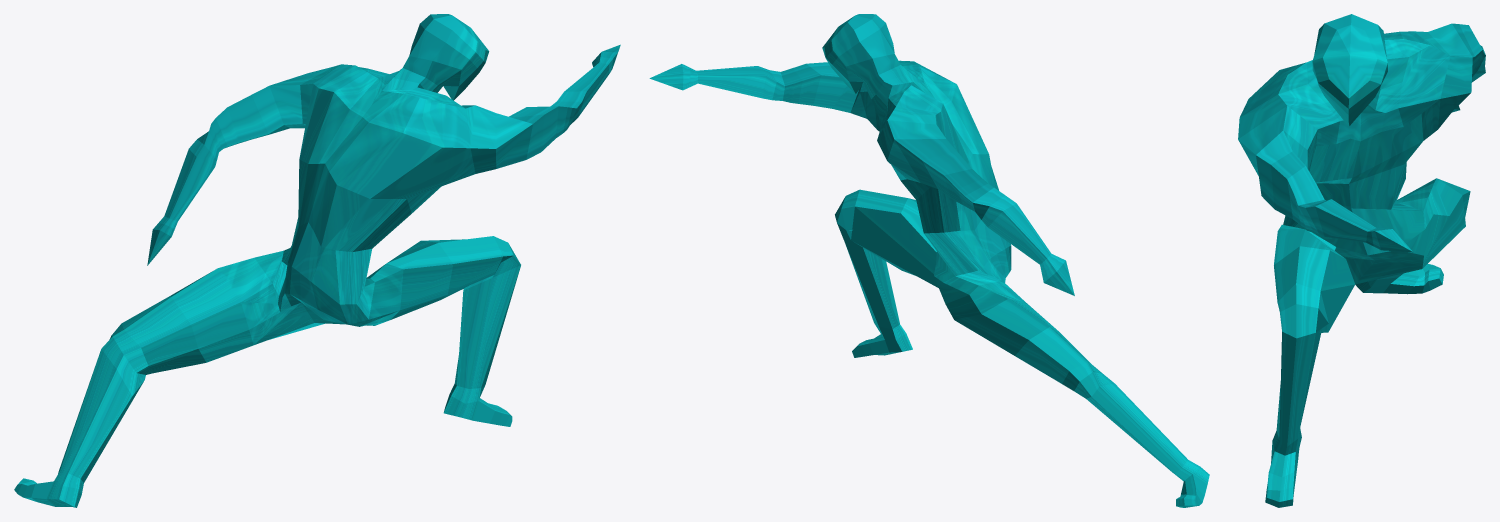
Rendered from PlayerParry.obj.
The picture shows the model from 3 angles, left to right: view 1: azimuth 30°, elevation 25°; view 2: azimuth 150°, elevation 25°; view 3: azimuth 270°, elevation 25°; orthographic projection. The views are drawn at different scales.
Visible parts, largest first — view 1: Cube; view 2: Cube; view 3: Cube.
Part boxes in pixels (x1,y1,x2,y2): Cube: [14, 14, 620, 507]; Cube: [649, 14, 1209, 507]; Cube: [1238, 14, 1485, 507].
Size of the model in its own units: 6.73 by 4.45 by 2.04.
